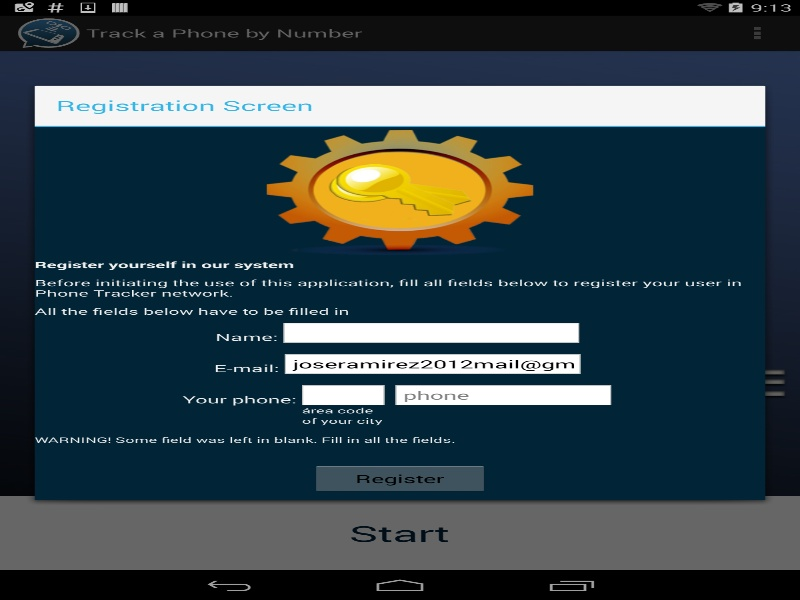Button: (310, 463, 489, 493)
Input: (284, 323, 578, 342), (286, 354, 579, 373), (396, 385, 610, 404), (303, 385, 383, 404)
